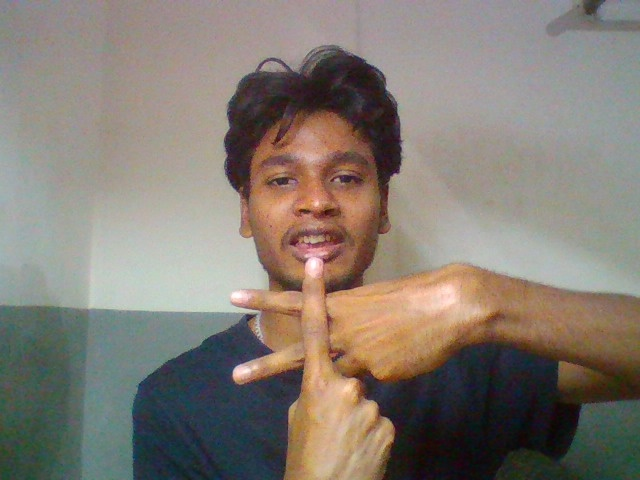K: (224, 249, 516, 480)
